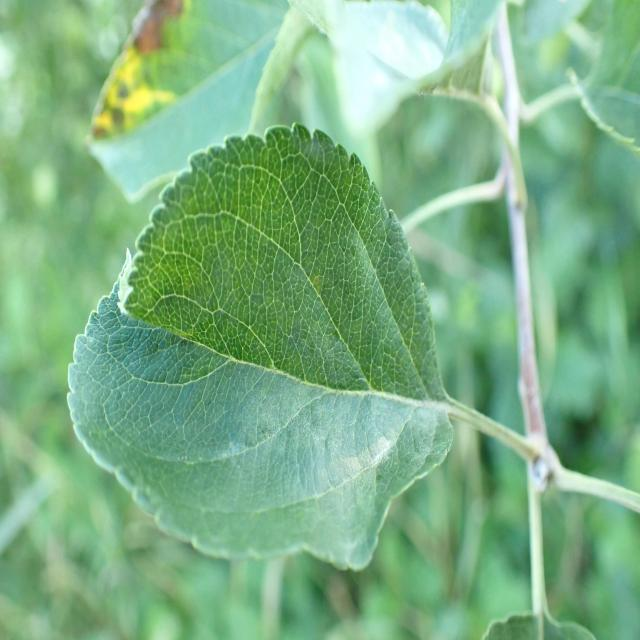Powdery_mildew: (95, 127, 455, 553)
